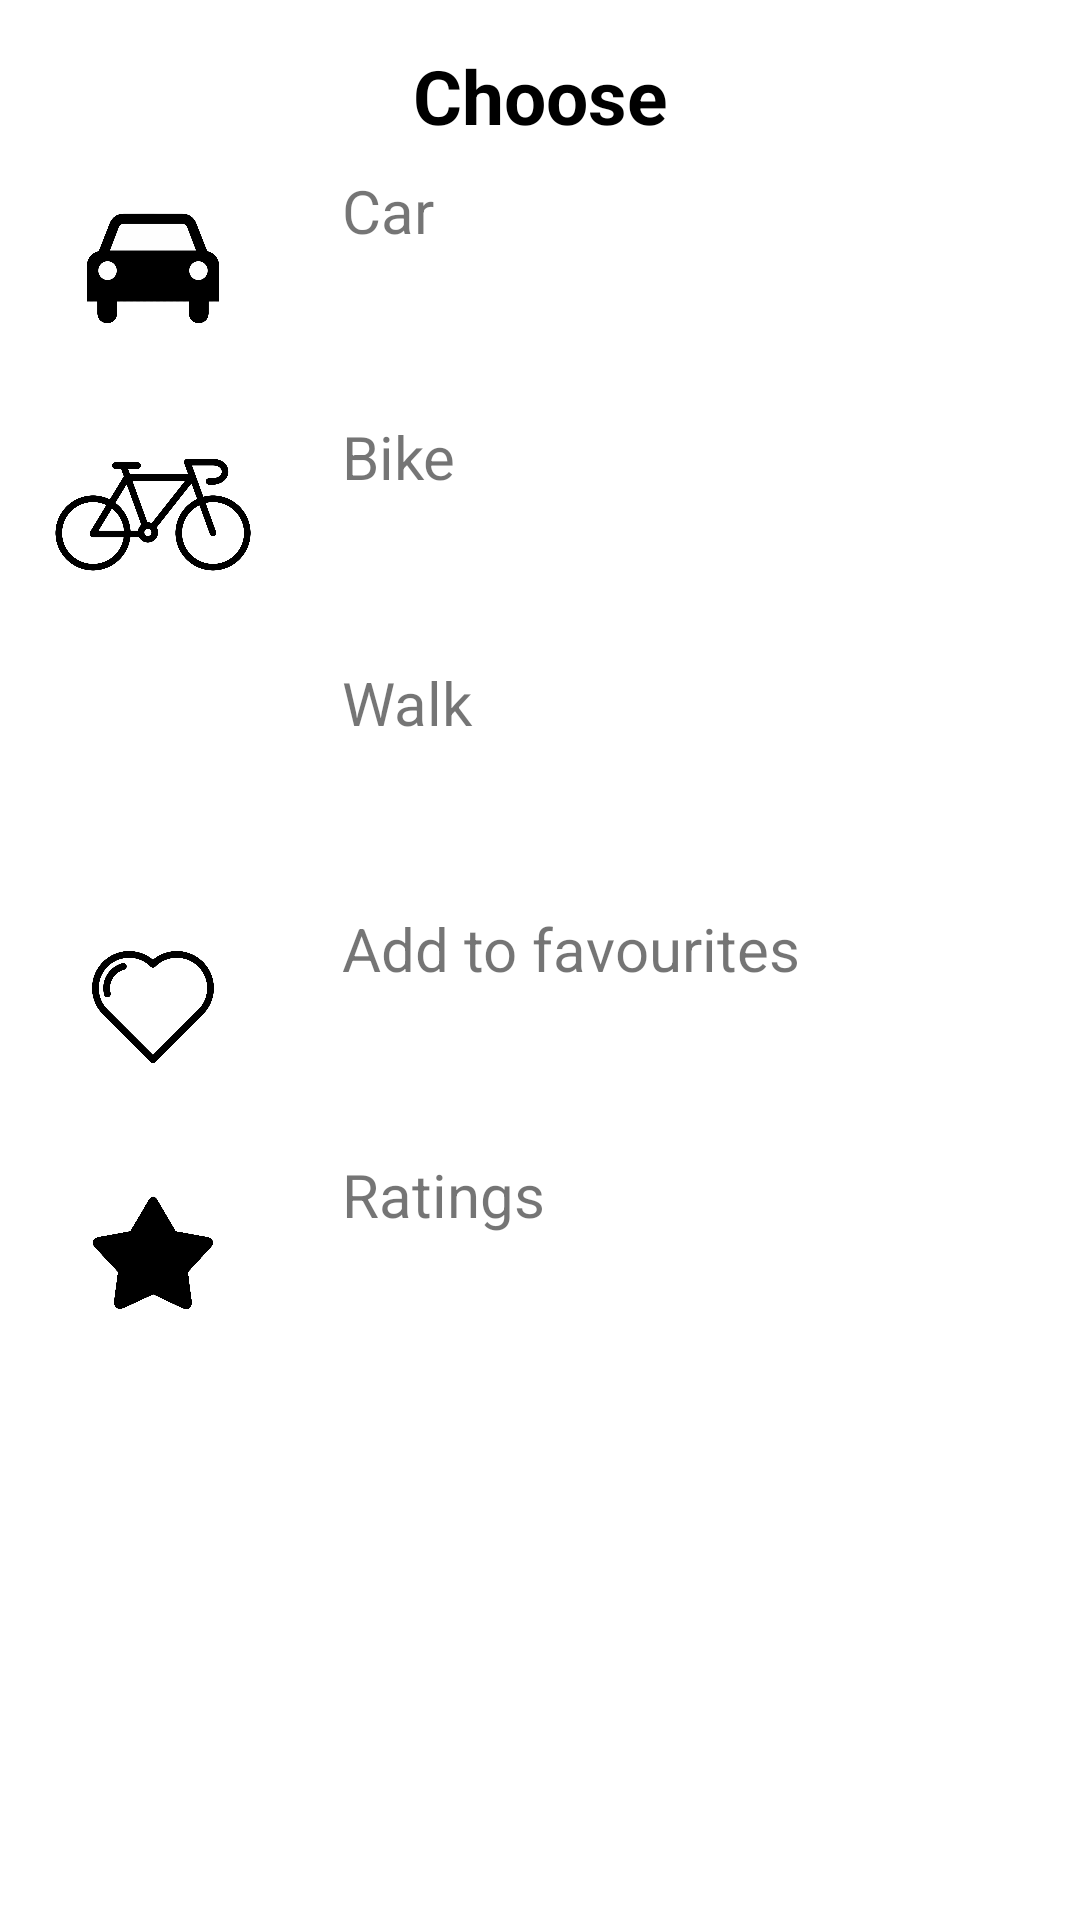

Point at icon controls on the screen. Image size 1080 x 1920, points as (x,y).
carfront: (153,268)
emptyheart: (153,1007)
fillstar: (153,1253)
